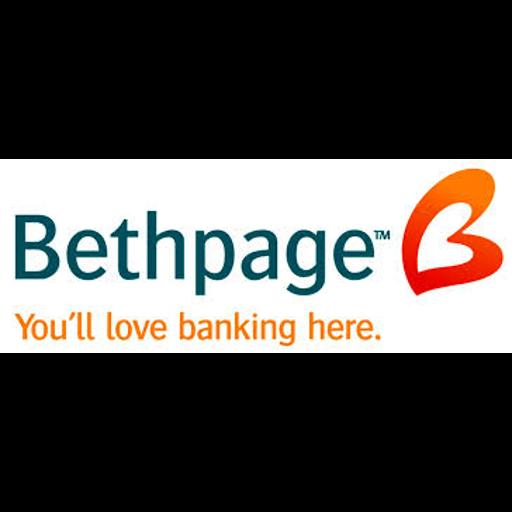Bethpage Federal Credit Union: (0, 159, 512, 353)
